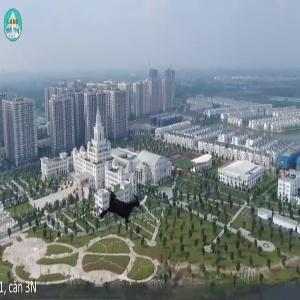drone: (92, 175, 152, 235)
